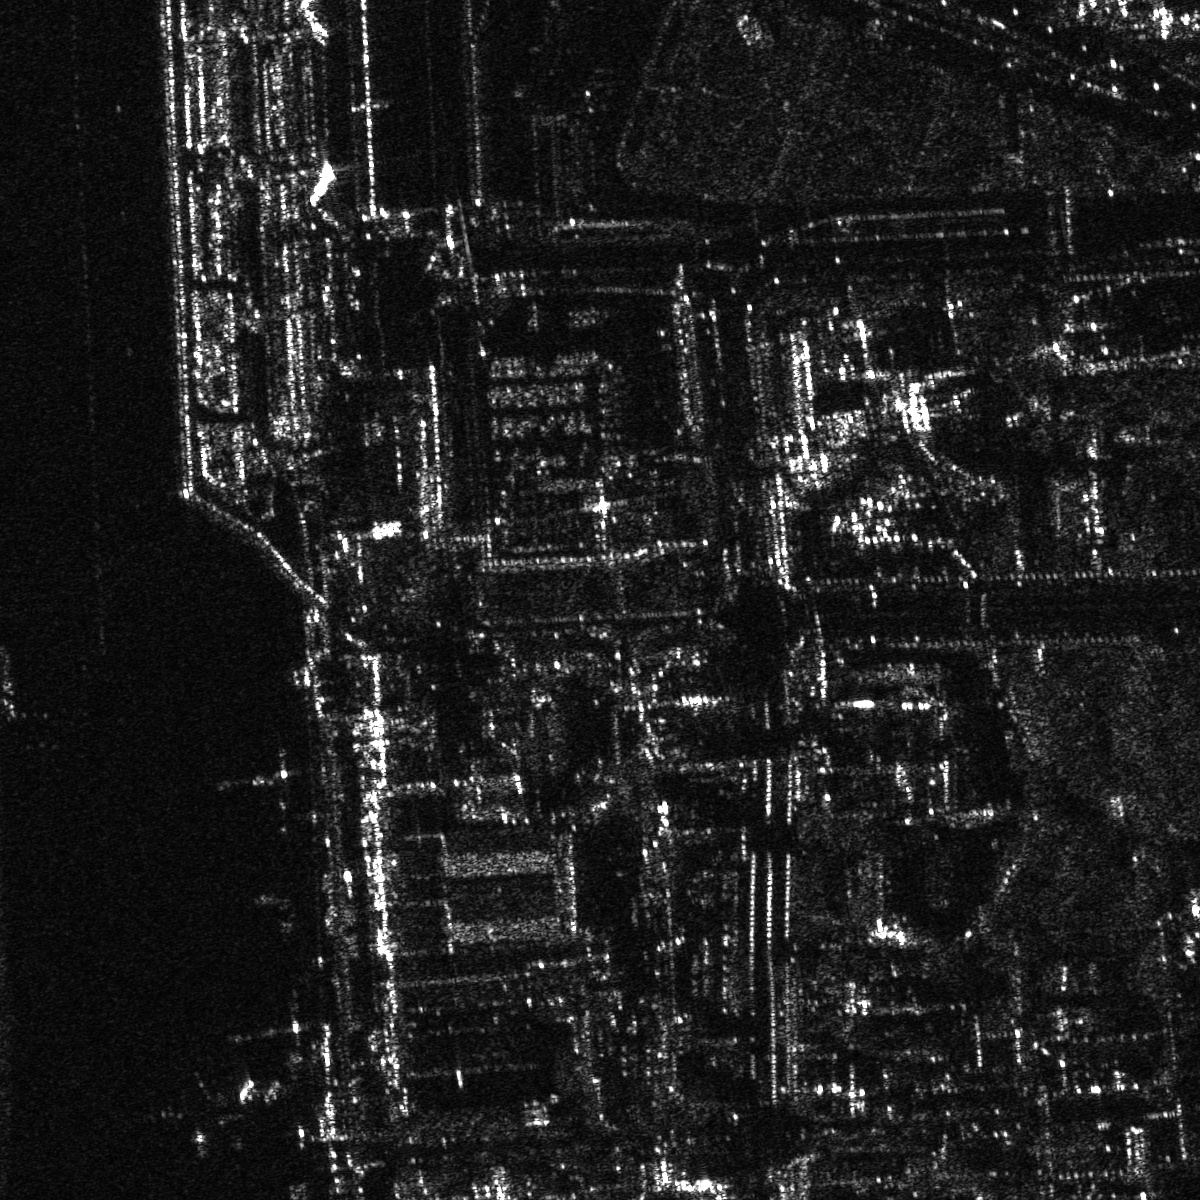A320/321: (229, 991, 318, 1058)
other: (211, 734, 313, 831), (149, 1073, 249, 1154)
